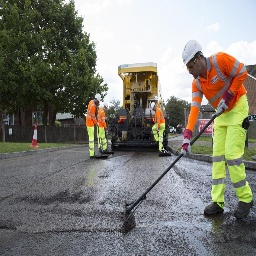helmet: (181, 39, 204, 69), (94, 93, 102, 105), (150, 101, 157, 112), (102, 102, 109, 110)
person: (180, 39, 253, 224), (85, 93, 102, 161), (149, 101, 165, 154), (98, 102, 109, 156)
vest: (193, 60, 247, 113), (86, 99, 96, 125), (154, 108, 166, 125), (98, 108, 106, 128)
